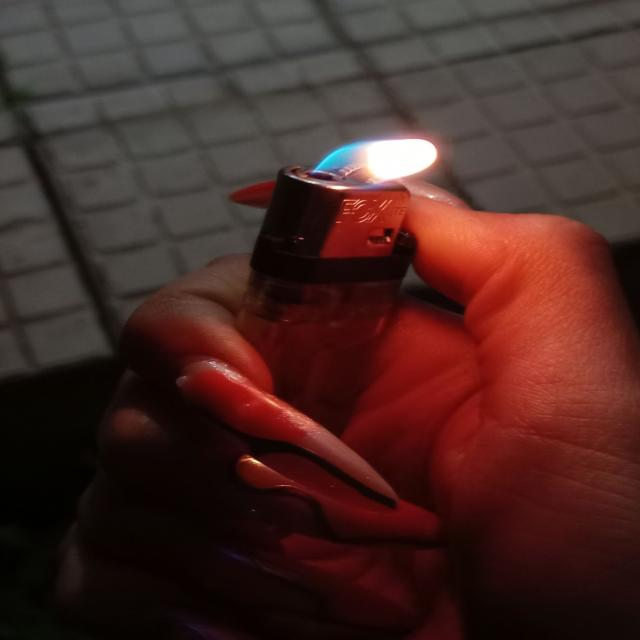fire: (318, 138, 438, 181)
